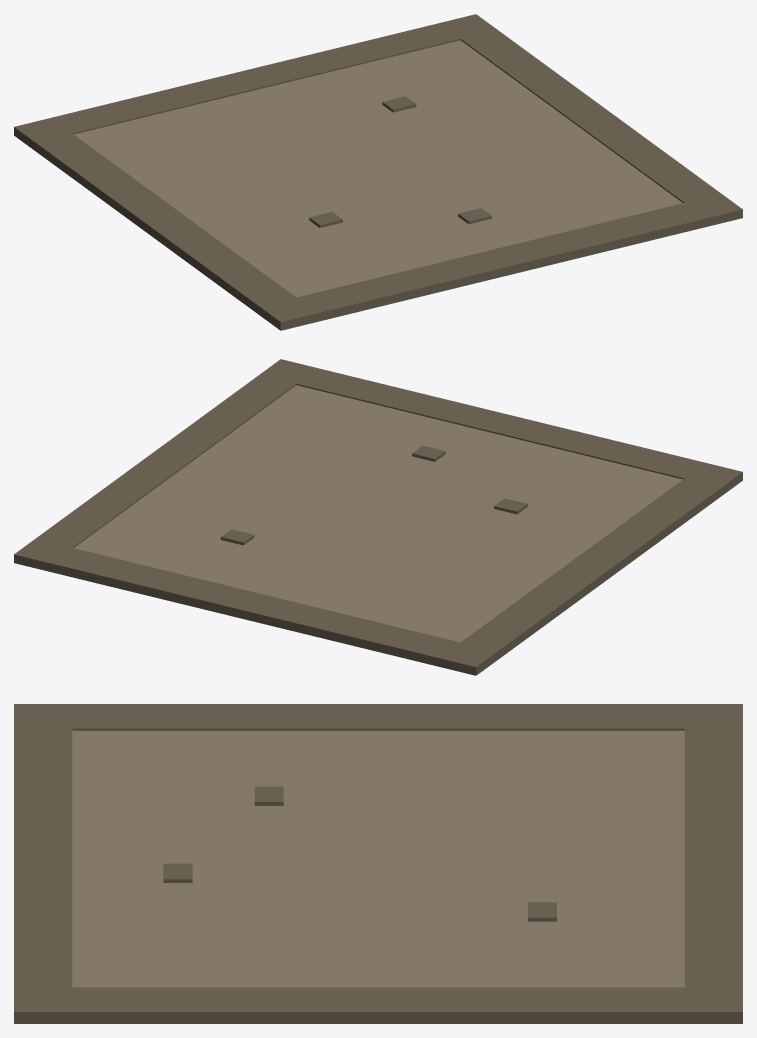
Rendered from road_patch.glb.
3 renders of one model, top to bottom at view 1: azimuth 30°, elevation 25°; view 2: azimuth 150°, elevation 25°; view 3: azimuth 270°, elevation 25°, orthographic. The views are drawn at different scales.
Visible parts, largest first — view 1: road_patch; view 2: road_patch; view 3: road_patch.
Boxes of the visible parts, x1,y1,x2,y2 form: road_patch: (14, 14, 742, 330); road_patch: (14, 359, 742, 675); road_patch: (14, 704, 742, 1023).
Size of the model in its own units: 2 by 0.042 by 2.
